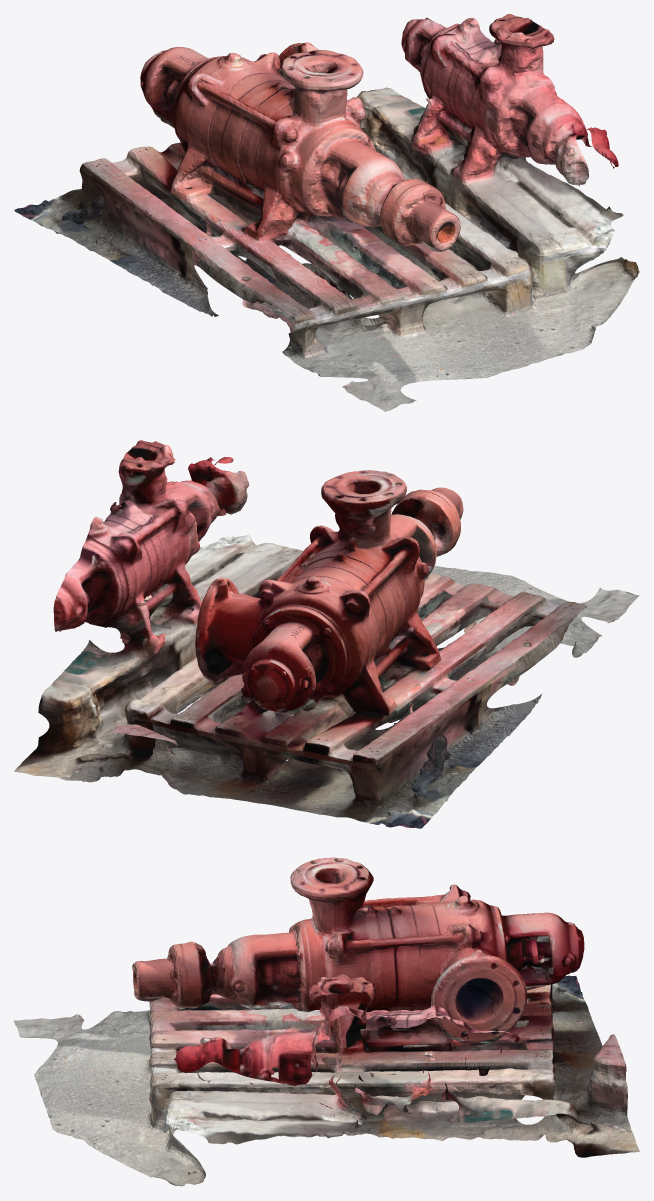
Rendered from soplador.glb.
3 views of the same model, one above another, from view 1: azimuth 30°, elevation 25°; view 2: azimuth 150°, elevation 25°; view 3: azimuth 270°, elevation 25° (orthographic). The views are drawn at different scales.
Bounding box in the file's own units: 1.42 × 0.6831 × 1.89.
Materials: 1 (1 with a texture image).
